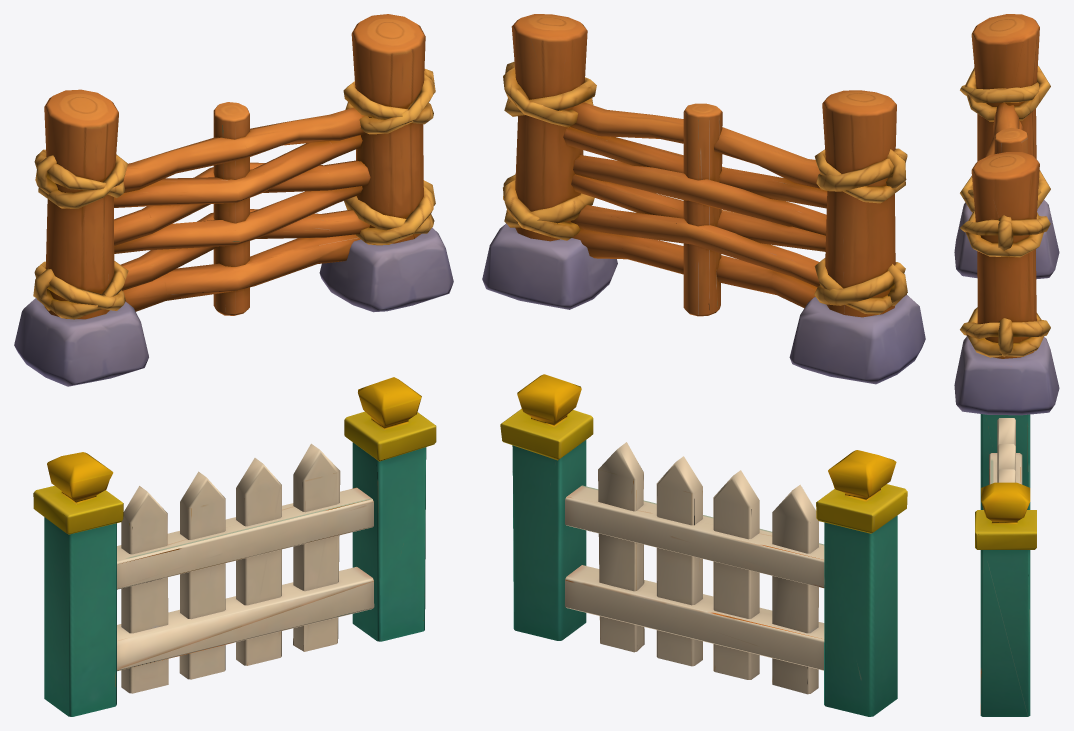
The model's file is pair_rail_picket.glb.
3 views of the same model, side by side, from view 1: azimuth 30°, elevation 25°; view 2: azimuth 150°, elevation 25°; view 3: azimuth 270°, elevation 25° (orthographic). The views are drawn at different scales.
Parts seen in each view (by area): view 1: geometry_0; view 2: geometry_0; view 3: geometry_0.
Boxes of the visible parts, x1,y1,x2,y2 form: geometry_0: [14, 14, 453, 716]; geometry_0: [482, 14, 925, 716]; geometry_0: [954, 14, 1059, 716].
Bounding box in the file's own units: 0.6714 × 0.9517 × 0.1655.
Materials: 1 (1 with a texture image).
